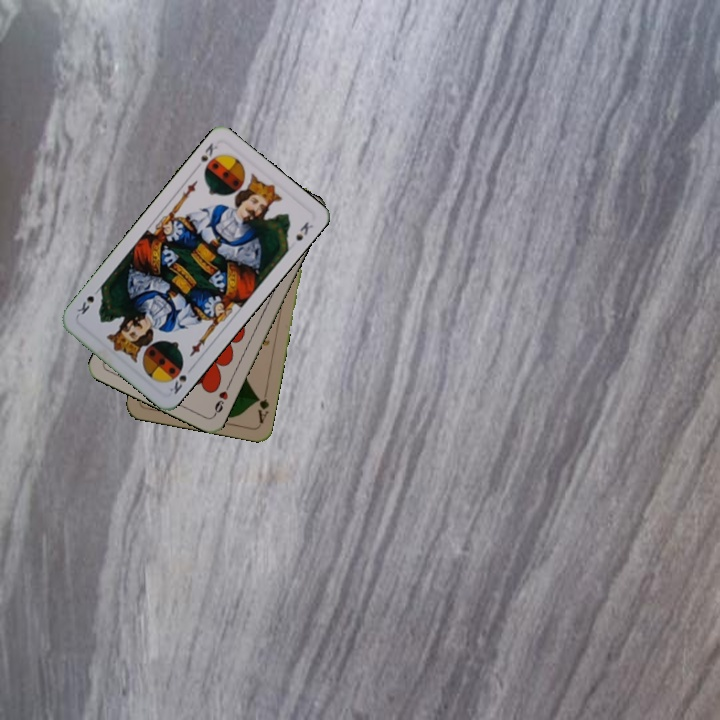GA: (253, 386, 272, 426)
H9: (210, 380, 232, 418)
SK: (191, 139, 220, 175), (165, 362, 189, 397)
